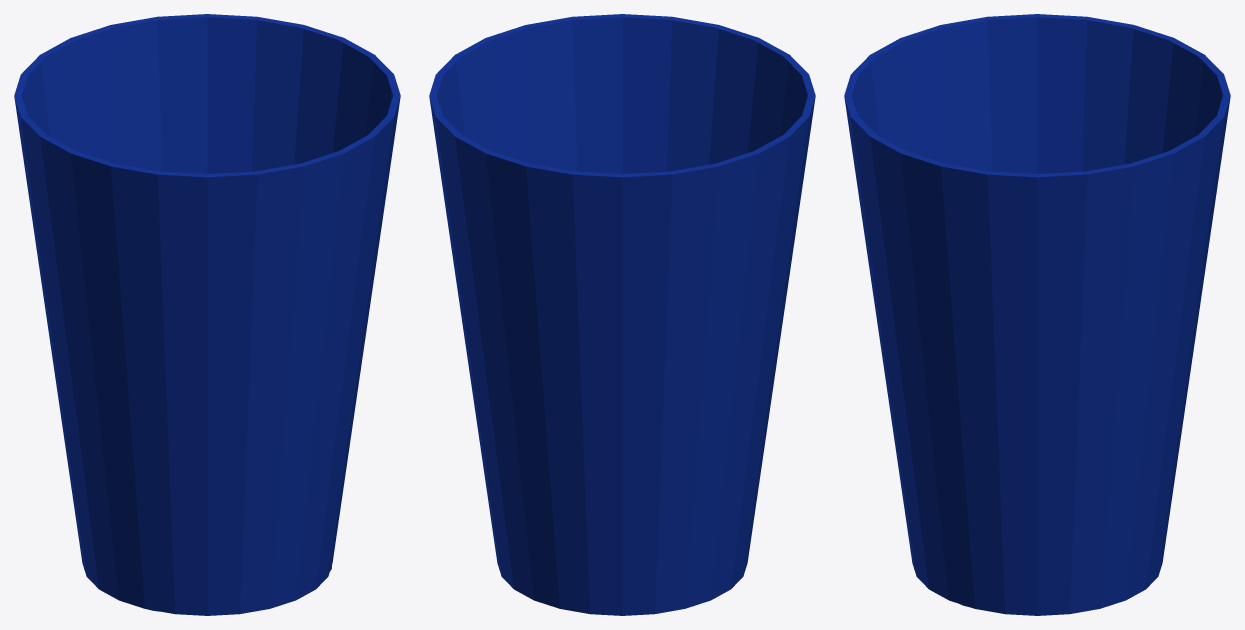
The picture shows the model from 3 angles, left to right: view 1: azimuth 30°, elevation 25°; view 2: azimuth 150°, elevation 25°; view 3: azimuth 270°, elevation 25°; orthographic projection.
Parts seen in each view (by area): view 1: mesh1_mesh1-geometry; view 2: mesh1_mesh1-geometry; view 3: mesh1_mesh1-geometry.
Part boxes in pixels (left/top/right/bottom): mesh1_mesh1-geometry: left=14, top=14, right=400, bottom=615; mesh1_mesh1-geometry: left=429, top=14, right=815, bottom=615; mesh1_mesh1-geometry: left=844, top=14, right=1230, bottom=615.
Size of the model in its own units: 0.5143 by 0.6862 by 0.5143.
